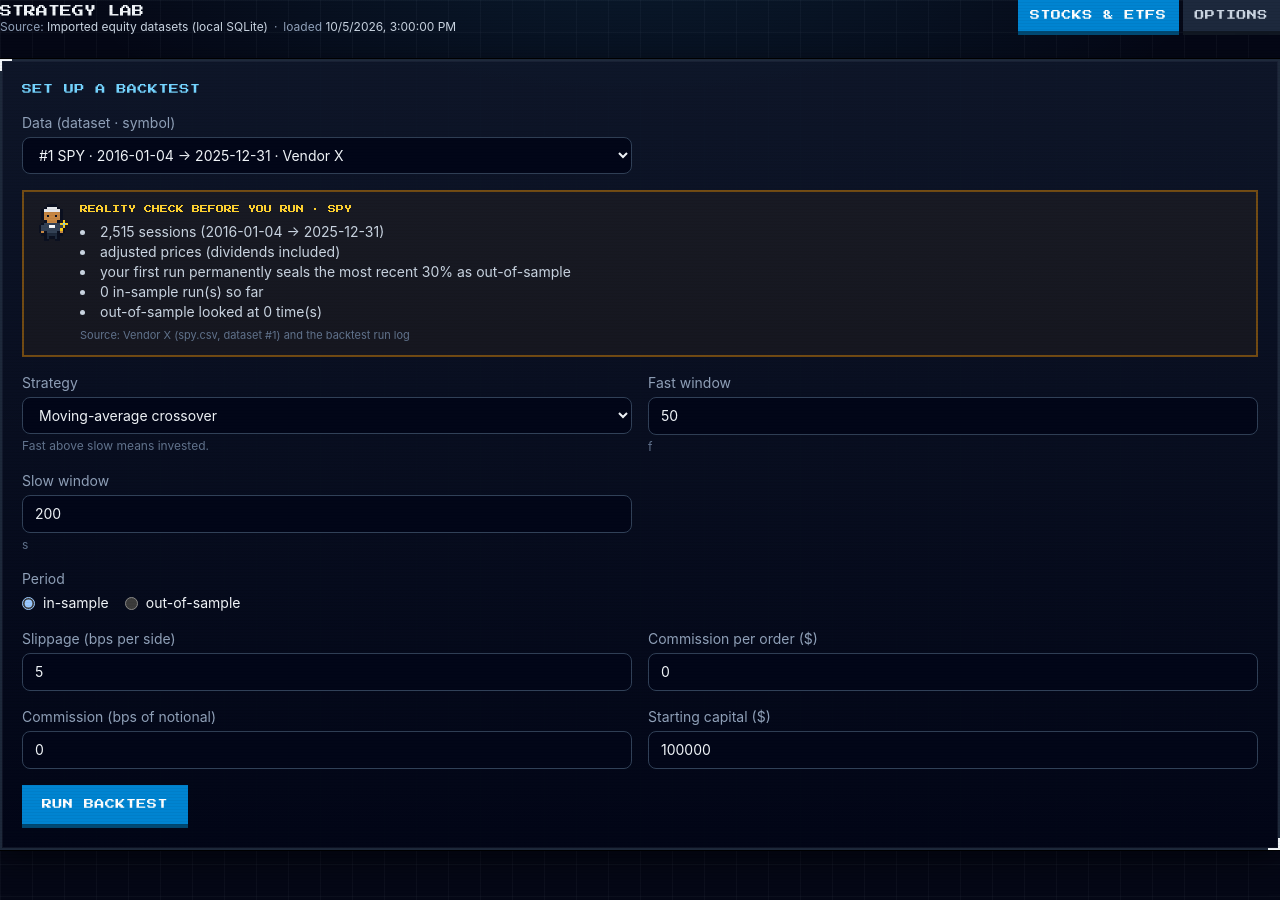
it: StrategyLabPage › shows the reason when a backtest is refused
What coordinates should you click on to do the following:
click the button "Run backtest"
I would click on:
 (105, 807)
Its box is [22,785,188,828].
(page scrolled)
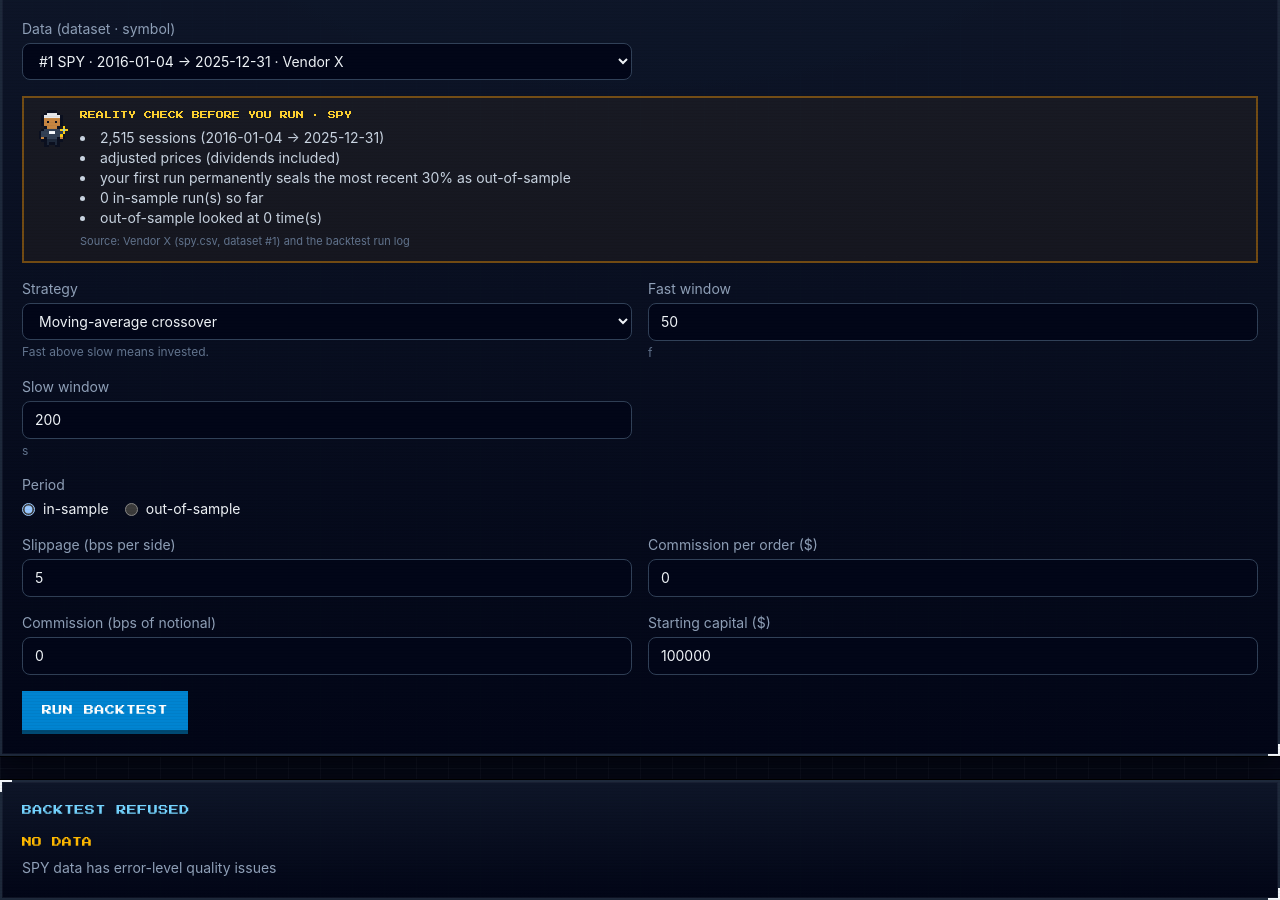
Expected: the text "SPY data has error-level quality issues" is shown, [22,859,276,876]
